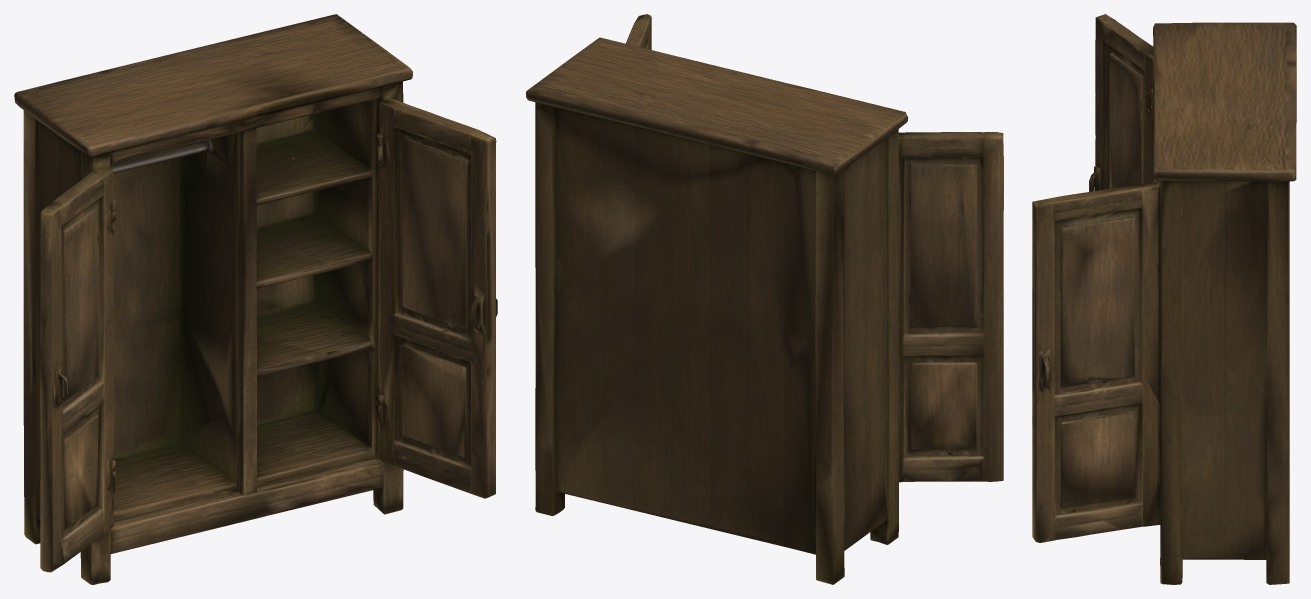
The model's file is ArmarioAbierto.glb.
3 renders of one model, left to right at view 1: azimuth 30°, elevation 25°; view 2: azimuth 150°, elevation 25°; view 3: azimuth 270°, elevation 25°, orthographic. The views are drawn at different scales.
Parts seen in each view (by area): view 1: node_0; view 2: node_0; view 3: node_0.
Part boxes in pixels (x1,y1,x2,y2): node_0: [14, 14, 497, 584]; node_0: [526, 14, 1003, 584]; node_0: [1032, 14, 1296, 584].
Bounding box in the file's own units: 0.8347 × 0.8344 × 0.4789.
Materials: 1 (1 with a texture image).
